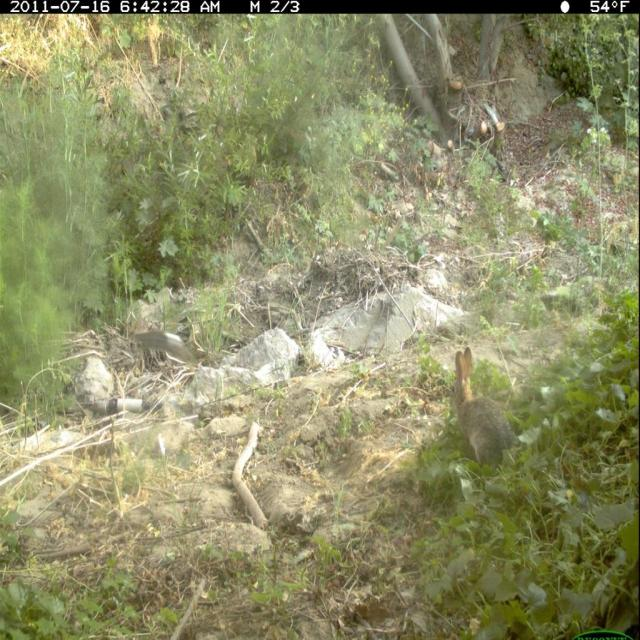rabbit: (450, 342, 522, 466)
